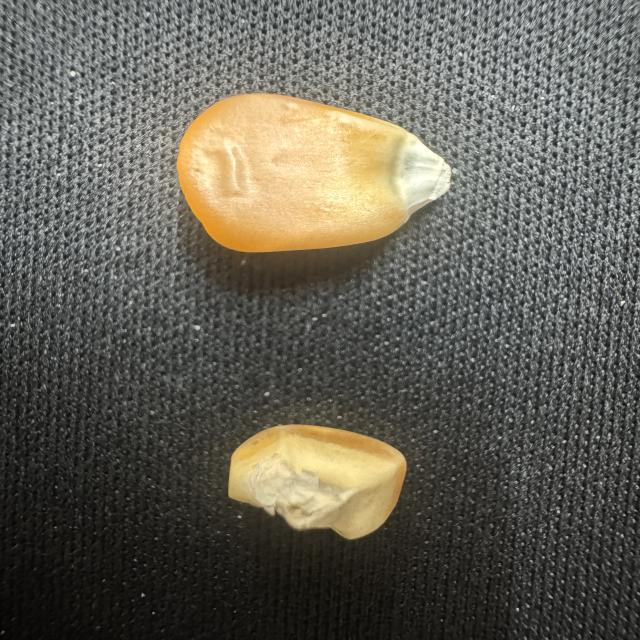Bad-Seed: (206, 413, 419, 554)
Good-Seed: (170, 80, 458, 266)
